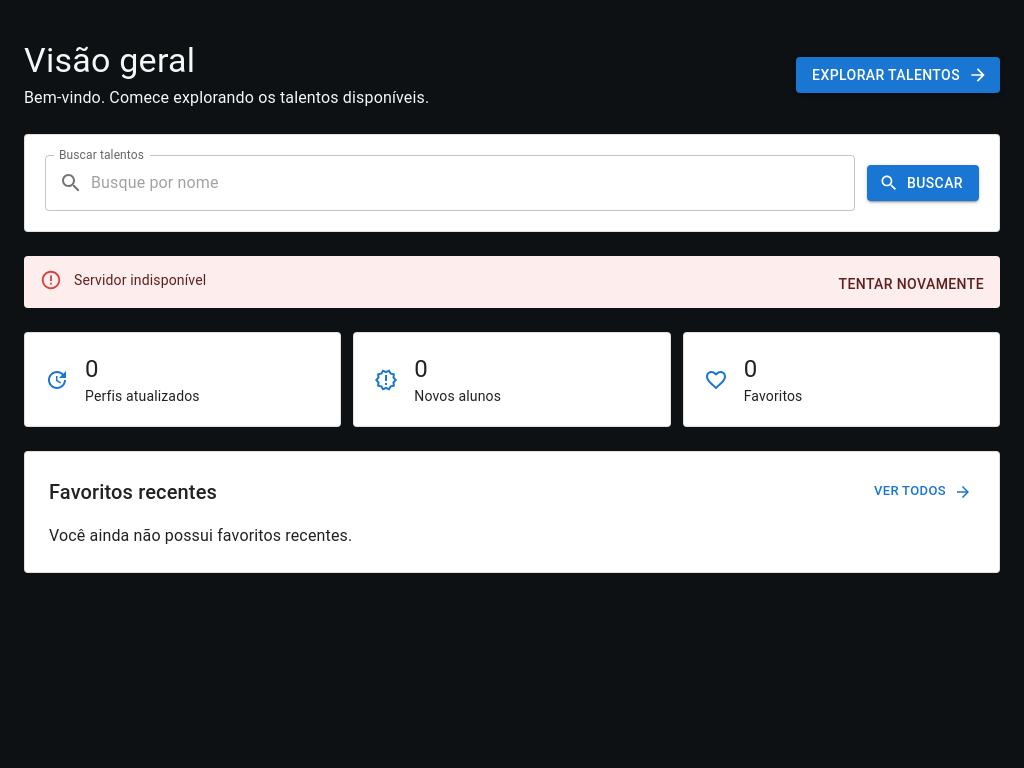
RecruiterDashboardView › failure › reloads the dashboard when the user retries and removes the error
Expected: the message "Servidor indisponível Tentar novamente" is shown, 24,256 -> 1000,308
Click the button "Tentar novamente" at (911, 284), box 830,266 -> 992,302
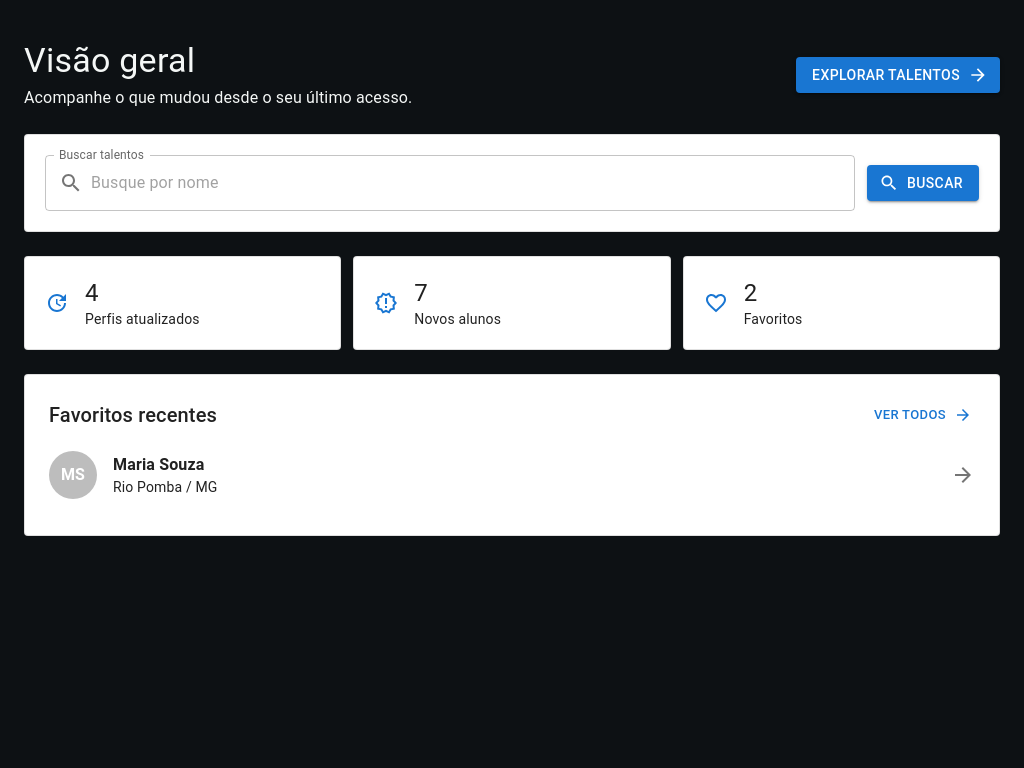
Expected: the text "Maria Souza" is shown, 113,455 -> 204,474
Expected: the message "Servidor indisponível Tentar novamente" is gone
